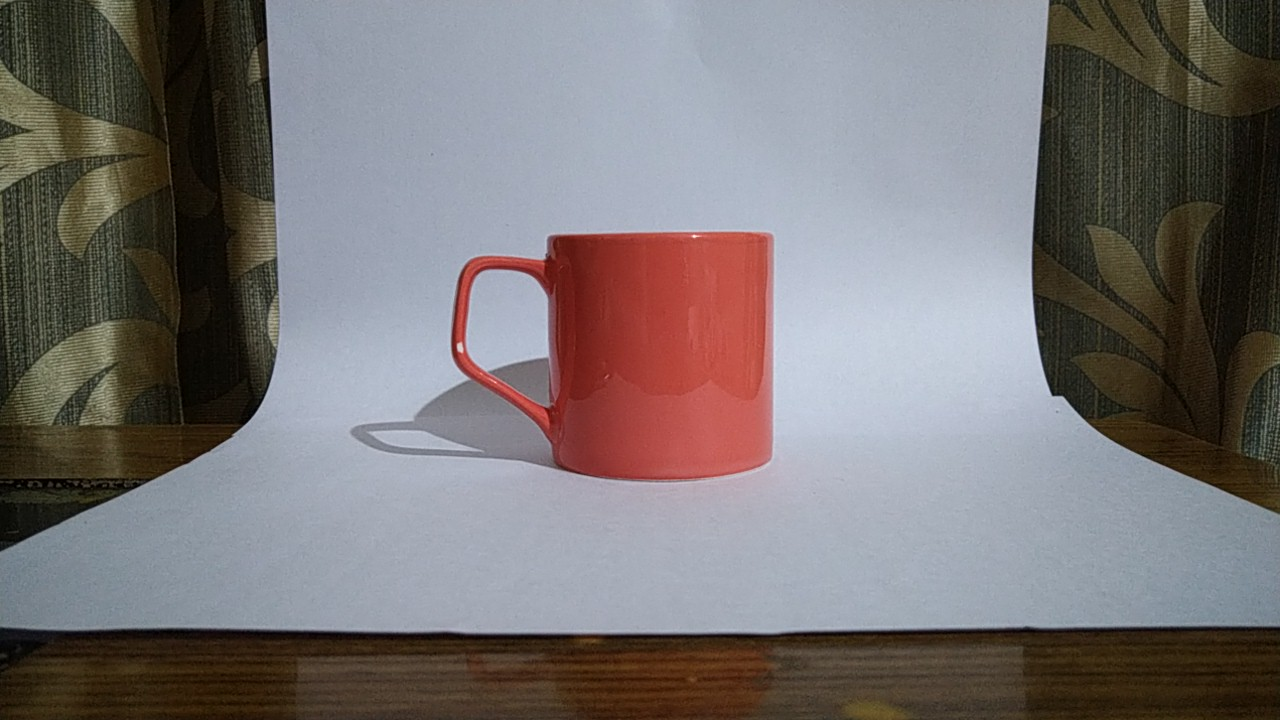cup: (445, 217, 803, 501)
